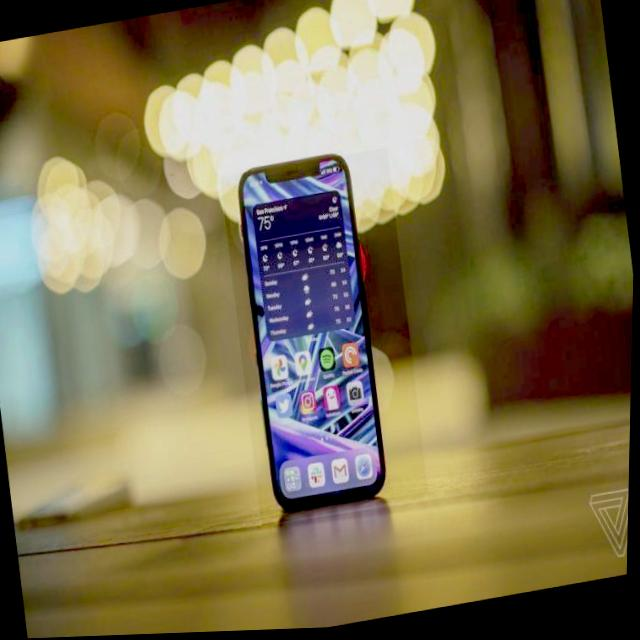Smartphone: (217, 143, 408, 531)
